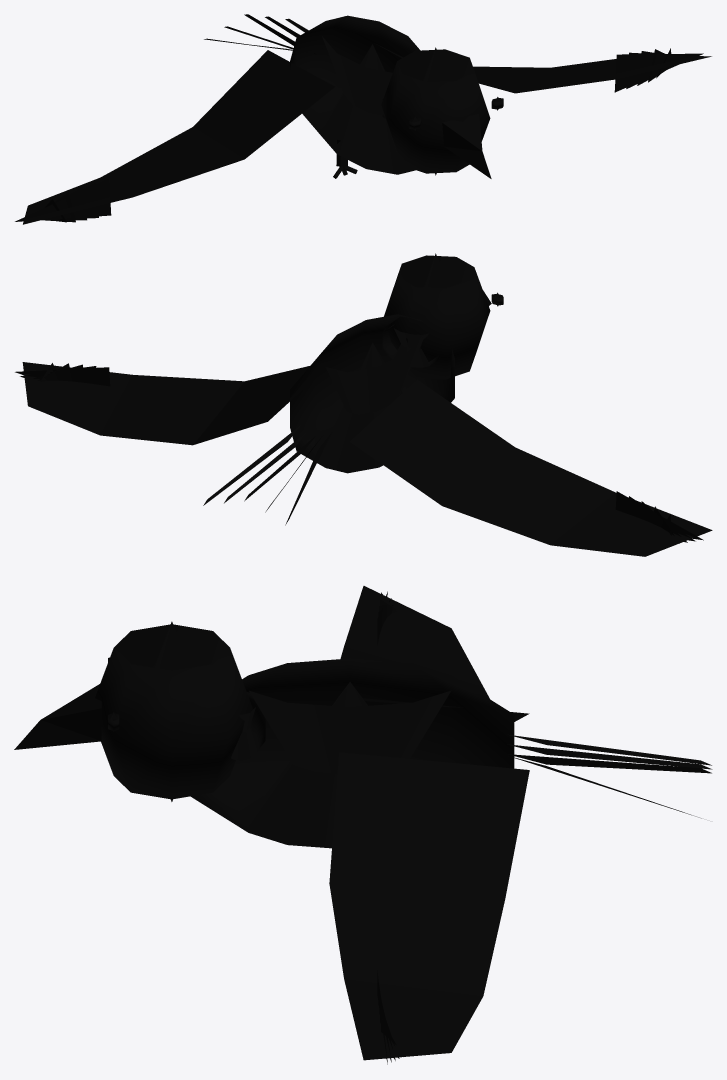
The model's file is gliding_00.glb.
3 views of the same model, one above another, from view 1: azimuth 30°, elevation 25°; view 2: azimuth 150°, elevation 25°; view 3: azimuth 270°, elevation 25° (orthographic). The views are drawn at different scales.
Parts seen in each view (by area): view 1: RaptorBody; view 2: RaptorBody; view 3: RaptorBody.
Part boxes in pixels (x1,y1,x2,y2): RaptorBody: (15, 14, 711, 224); RaptorBody: (15, 253, 712, 556); RaptorBody: (14, 586, 712, 1064).
Size of the model in its own units: 1.79 by 0.4166 by 1.12.
Materials: 7 (7 with a texture image).
